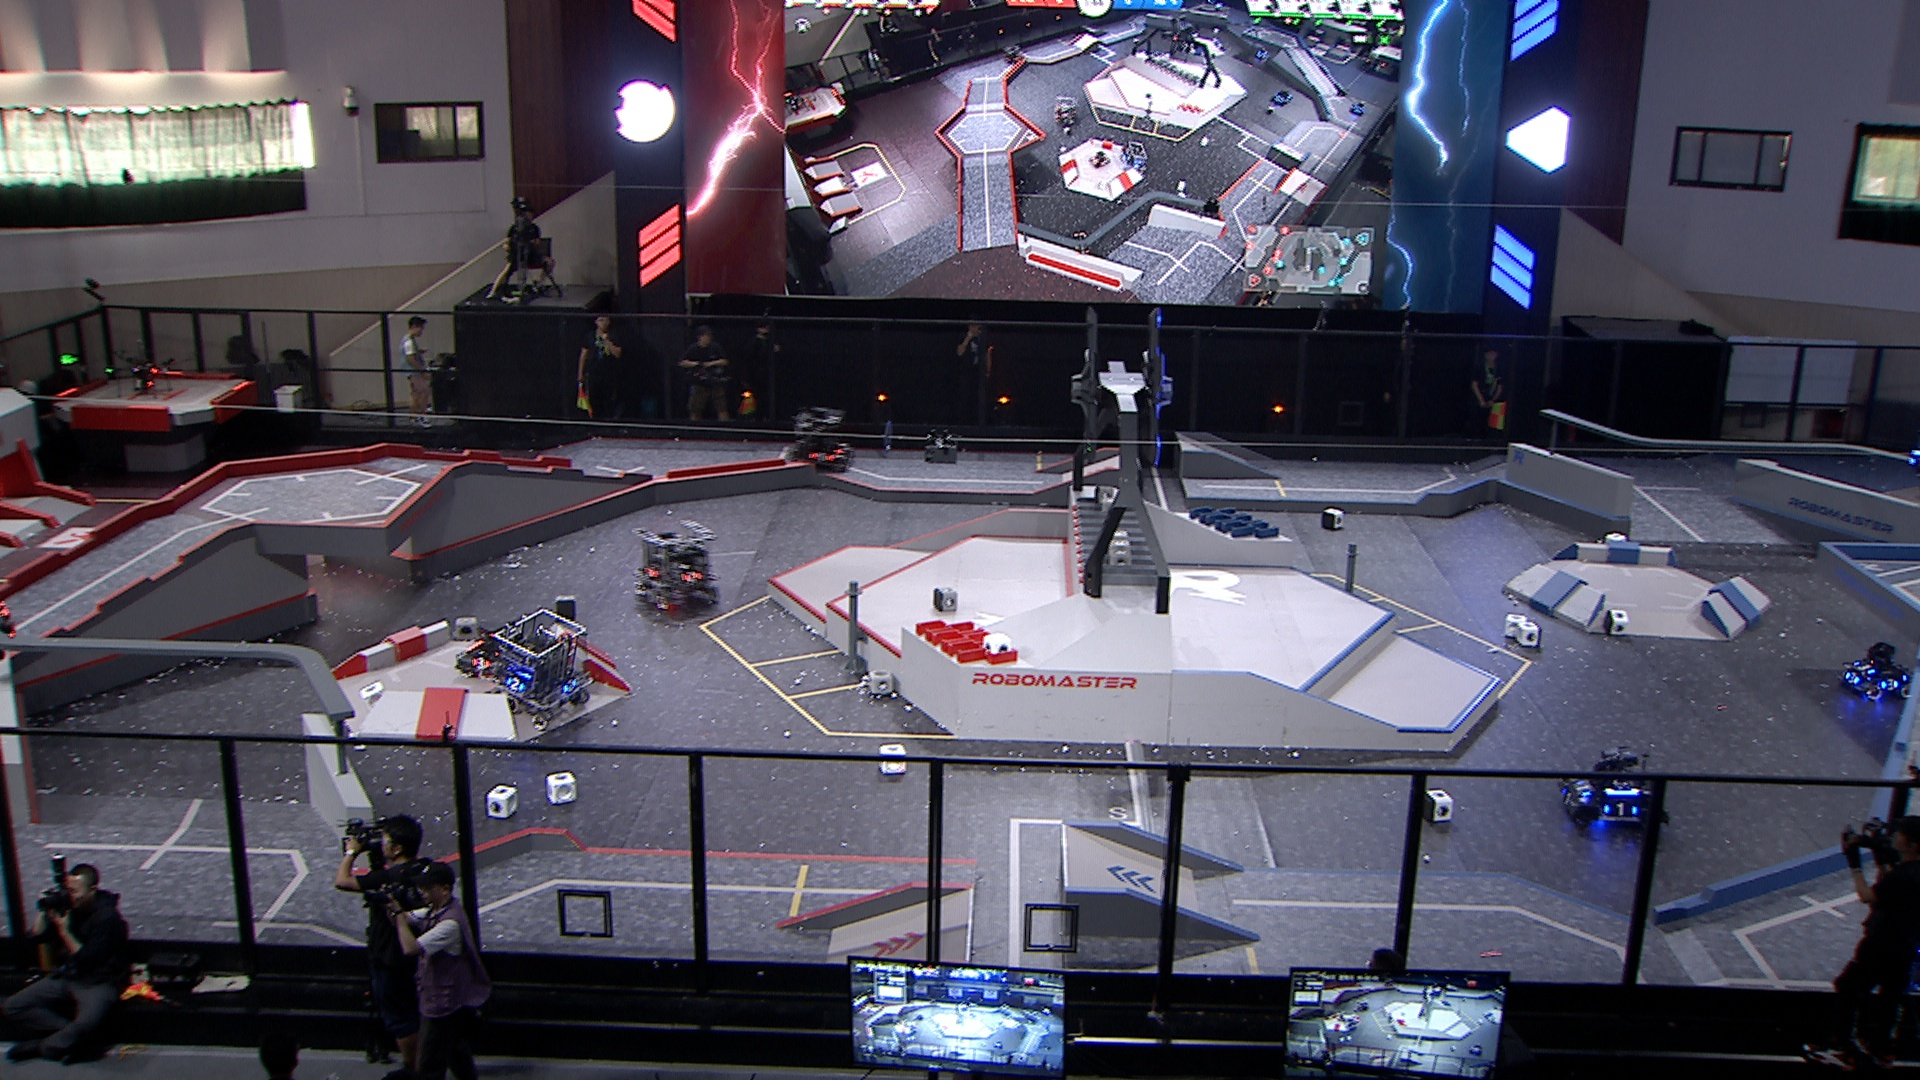armor: (1604, 800, 1640, 820), (1878, 676, 1902, 694), (808, 451, 836, 465), (1845, 669, 1865, 688), (506, 675, 527, 694), (680, 570, 703, 585), (1854, 661, 1876, 675), (642, 564, 661, 582), (562, 676, 579, 695), (1575, 779, 1592, 798), (1561, 789, 1577, 808), (471, 655, 493, 669)
car: (495, 605, 593, 731), (1556, 746, 1667, 840), (633, 517, 724, 616), (1841, 641, 1917, 703), (787, 409, 858, 475), (455, 622, 517, 680)
ignore: (1050, 95, 1079, 125), (1122, 140, 1149, 167), (1072, 229, 1092, 256), (1004, 44, 1026, 65), (1091, 148, 1112, 167), (1271, 90, 1295, 105), (1348, 100, 1367, 116), (1254, 47, 1269, 61)
watcher: (1907, 443, 1920, 498)
